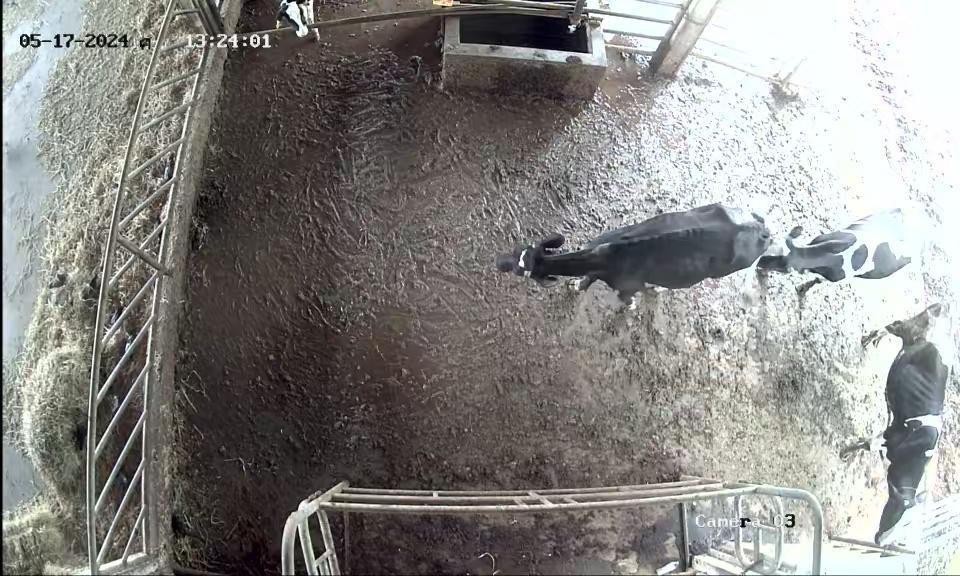stand: (485, 189, 768, 316), (833, 300, 958, 548), (762, 191, 930, 302)
